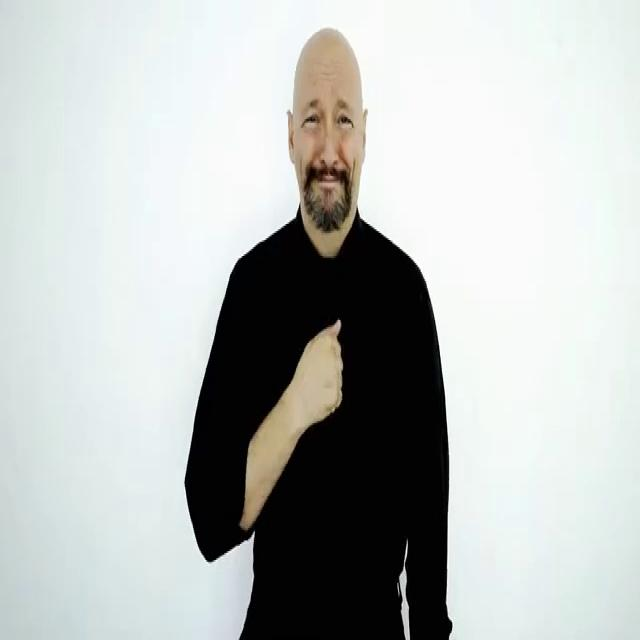sorry: (292, 322, 344, 422)
